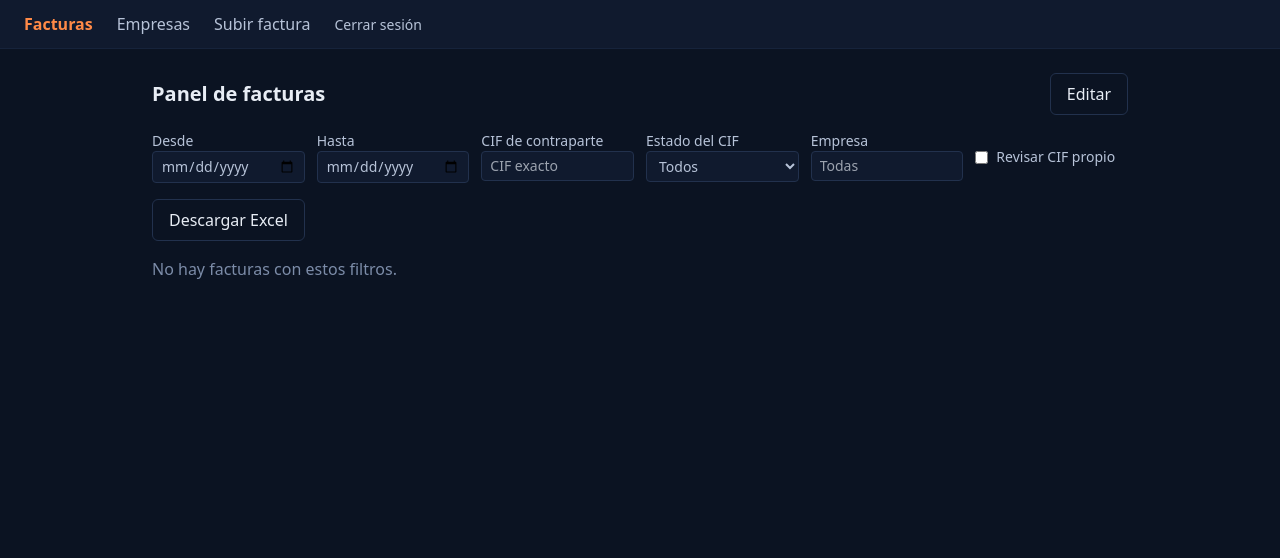
Test: AppRoutes (S4.9) › C13: cerrar sesión desde el menú vuelve a login
Expected: the heading "Panel de facturas" is shown, left=152, top=80, right=325, bottom=108
Step 1. Click the button "Cerrar sesión" → (378, 25), box left=334, top=15, right=422, bottom=35
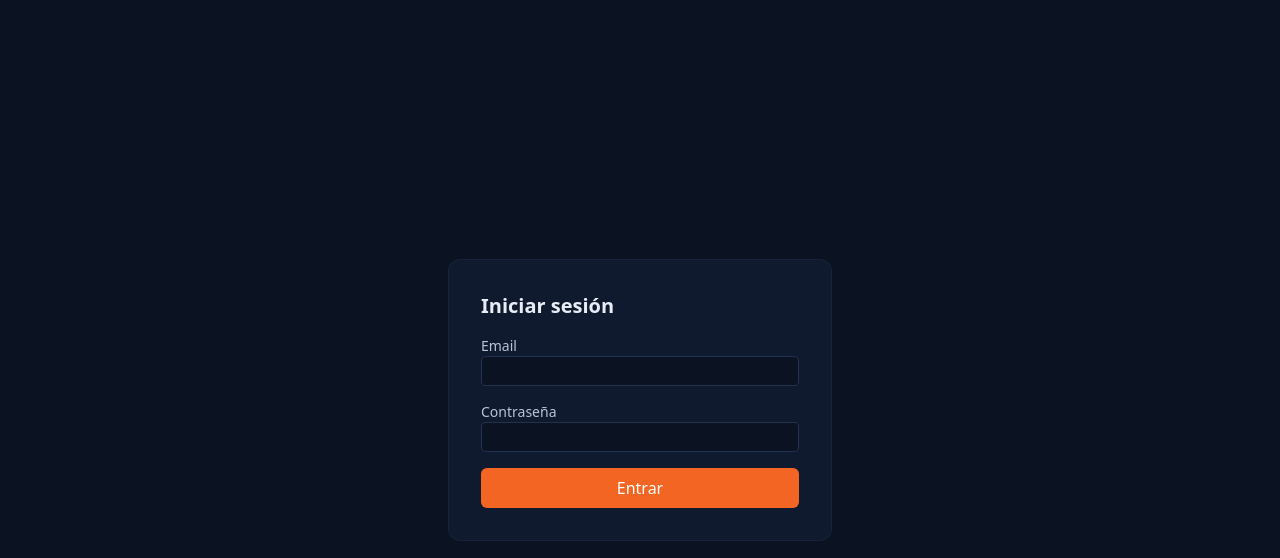
Result: the field labelled "Email" is shown at left=481, top=356, right=799, bottom=386
